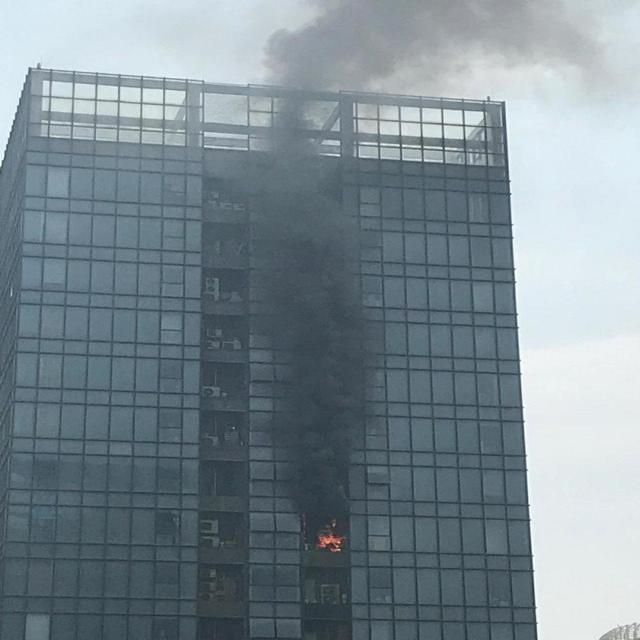Fire: (314, 533, 346, 553)
Smoke: (209, 1, 640, 536)
